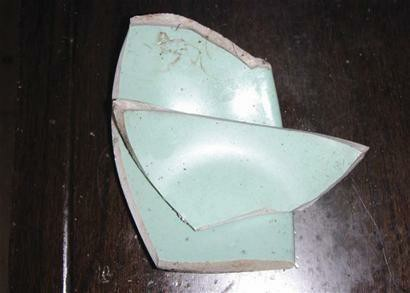ceramics: (106, 10, 373, 277)
